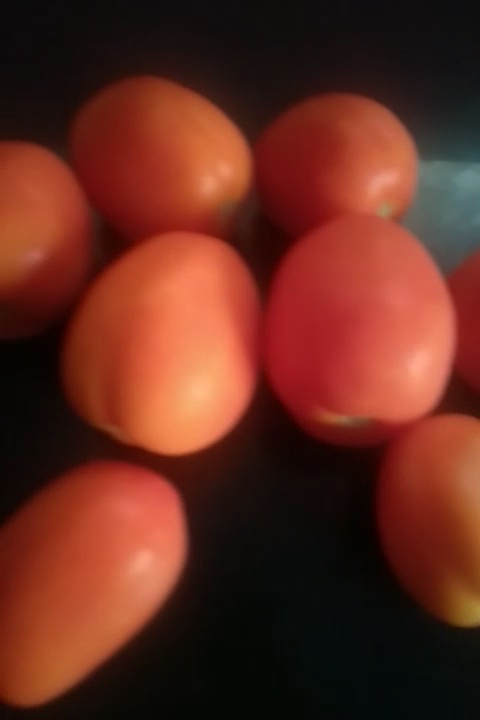tomato: (61, 218, 281, 489), (1, 464, 201, 707), (280, 200, 446, 437), (72, 65, 262, 235), (240, 96, 437, 238), (359, 413, 480, 625), (1, 135, 99, 325)
